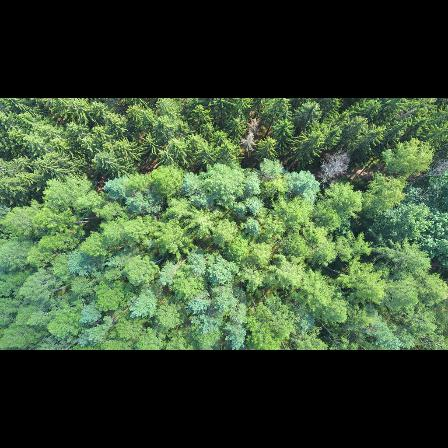Dead: (317, 147, 353, 184), (238, 116, 262, 156)
